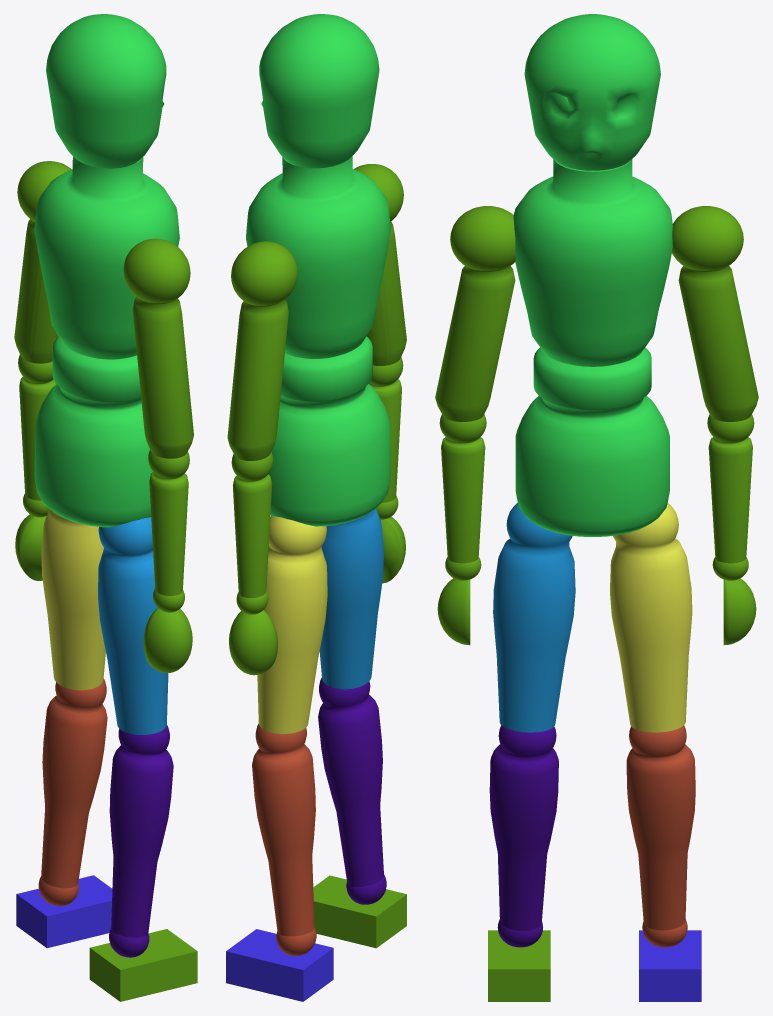
The model's file is mannequin.fbx.
3 views of the same model, side by side, from view 1: azimuth 30°, elevation 25°; view 2: azimuth 150°, elevation 25°; view 3: azimuth 270°, elevation 25° (orthographic). The views are drawn at different scales.
Parts seen in each view (by area): view 1: spine1_convexhull, rightArm, pelvis_convexhull, head_convexhull, RightCalf_convexhull, leftCalf_convexhull, rightThigh_convexhull, leftArm, leftThigh_convexhull, rightFoot_convexhull, LeftFoot_convexhull; view 2: spine1_convexhull, leftArm, pelvis_convexhull, head_convexhull, leftThigh_convexhull, leftCalf_convexhull, RightCalf_convexhull, rightThigh_convexhull, rightArm, LeftFoot_convexhull, rightFoot_convexhull; view 3: spine1_convexhull, pelvis_convexhull, leftArm, rightArm, head_convexhull, rightThigh_convexhull, leftThigh_convexhull, leftCalf_convexhull, RightCalf_convexhull, rightFoot_convexhull, LeftFoot_convexhull.
Part boxes in pixels (bbox=[...]): spine1_convexhull: bbox=[34, 156, 179, 359]; rightArm: bbox=[123, 238, 193, 672]; pelvis_convexhull: bbox=[34, 337, 152, 527]; head_convexhull: bbox=[46, 14, 166, 168]; RightCalf_convexhull: bbox=[109, 725, 173, 957]; leftCalf_convexhull: bbox=[38, 678, 107, 905]; rightThigh_convexhull: bbox=[98, 517, 168, 734]; leftArm: bbox=[14, 161, 71, 580]; leftThigh_convexhull: bbox=[41, 509, 105, 690]; rightFoot_convexhull: bbox=[89, 929, 197, 1001]; LeftFoot_convexhull: bbox=[16, 875, 112, 948]; spine1_convexhull: bbox=[246, 156, 390, 358]; leftArm: bbox=[227, 241, 297, 675]; pelvis_convexhull: bbox=[268, 336, 390, 526]; head_convexhull: bbox=[259, 14, 379, 168]; leftThigh_convexhull: bbox=[257, 516, 327, 733]; leftCalf_convexhull: bbox=[252, 723, 316, 955]; RightCalf_convexhull: bbox=[318, 677, 386, 904]; rightThigh_convexhull: bbox=[319, 508, 383, 689]; rightArm: bbox=[354, 164, 406, 583]; LeftFoot_convexhull: bbox=[226, 929, 333, 1001]; rightFoot_convexhull: bbox=[313, 875, 406, 948]; spine1_convexhull: bbox=[513, 159, 672, 366]; pelvis_convexhull: bbox=[515, 347, 669, 536]; leftArm: bbox=[671, 206, 758, 645]; rightArm: bbox=[435, 206, 515, 645]; head_convexhull: bbox=[524, 14, 660, 170]; rightThigh_convexhull: bbox=[493, 503, 575, 732]; leftThigh_convexhull: bbox=[610, 503, 692, 732]; leftCalf_convexhull: bbox=[626, 725, 695, 947]; RightCalf_convexhull: bbox=[489, 725, 558, 947]; rightFoot_convexhull: bbox=[488, 930, 550, 1001]; LeftFoot_convexhull: bbox=[639, 930, 701, 1001].
Bounding box in the file's own units: 245 × 546 × 1792.
